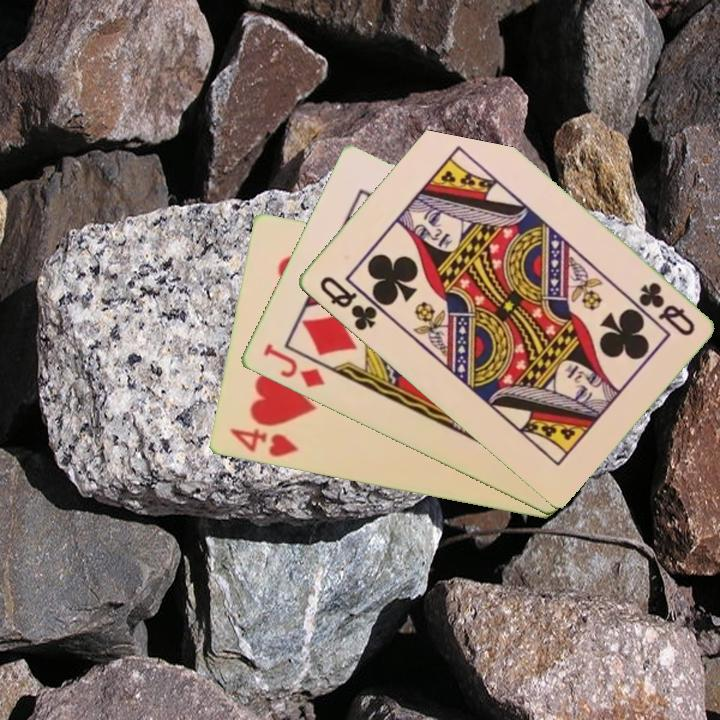4h: (225, 425, 302, 461)
Jd: (259, 340, 327, 391)
Qc: (315, 272, 380, 334), (634, 278, 698, 339)
